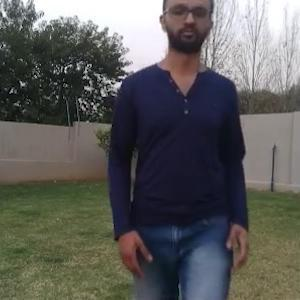follow: (141, 6, 232, 298)
